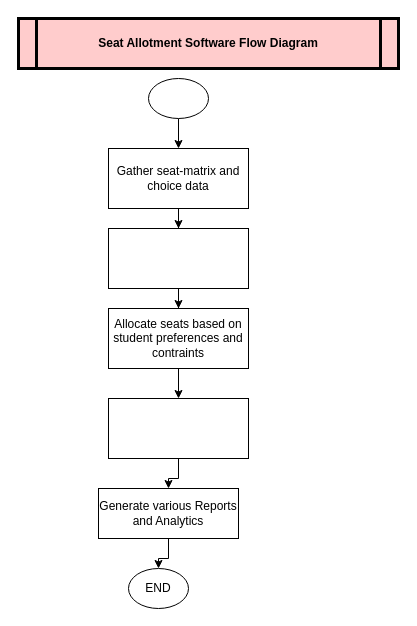
Some shapes in this 417 by 626 pixel diagram are drawn without their labels. The shapes that lost their labels are listed below. From the top down, each one's centre as x and y in pixels, then its label:
(x=178, y=98): Start
(x=178, y=258): Validate and Process Data
(x=178, y=428): General sear allotment result
